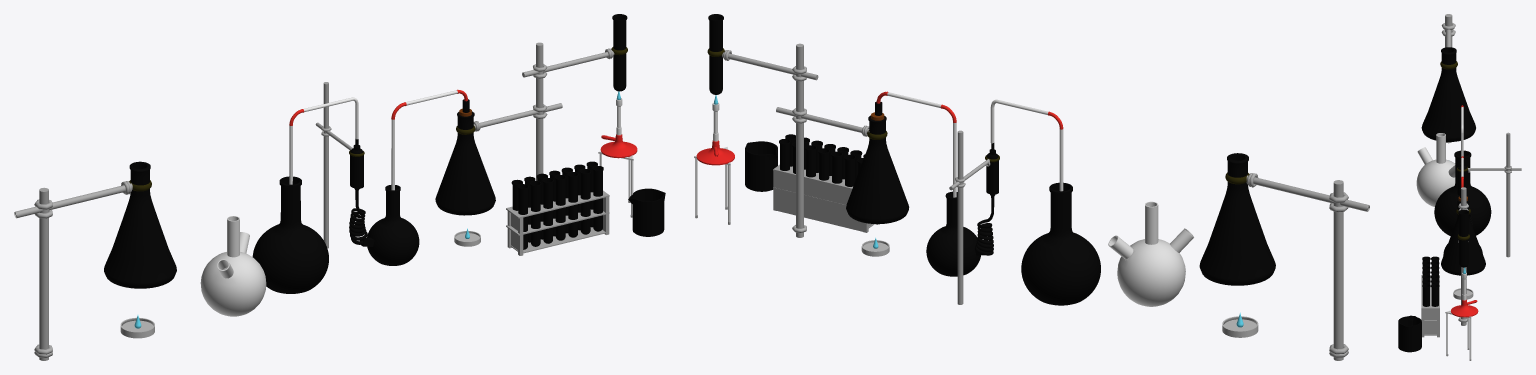
The model's file is chemistry set 1.fbx.
3 views of the same model, side by side, from view 1: azimuth 30°, elevation 25°; view 2: azimuth 150°, elevation 25°; view 3: azimuth 270°, elevation 25° (orthographic). The views are drawn at different scales.
Parts seen in each view (by area): view 1: Cylinder.004, Cylinder.002, Cylinder.005, Cylinder.003, Cylinder.010; view 2: Cylinder.004, Cylinder.002, Cylinder.005, Cylinder.003, Cylinder.010; view 3: Cylinder.004, Cylinder.002, Cylinder.003, Cylinder.005, Cylinder.010.
Boxes of the visible parts, left/top/right/bottom form: Cylinder.004: left=252, top=14, right=637, bottom=293; Cylinder.002: left=14, top=161, right=176, bottom=360; Cylinder.005: left=506, top=161, right=609, bottom=255; Cylinder.003: left=200, top=216, right=266, bottom=316; Cylinder.010: left=628, top=188, right=665, bottom=236; Cylinder.004: left=694, top=14, right=1100, bottom=305; Cylinder.002: left=1199, top=153, right=1369, bottom=360; Cylinder.005: left=773, top=134, right=878, bottom=232; Cylinder.003: left=1108, top=201, right=1194, bottom=306; Cylinder.010: left=745, top=141, right=777, bottom=191; Cylinder.004: left=1434, top=105, right=1521, bottom=360; Cylinder.002: left=1421, top=14, right=1475, bottom=143; Cylinder.003: left=1416, top=133, right=1455, bottom=206; Cylinder.005: left=1421, top=256, right=1439, bottom=337; Cylinder.010: left=1398, top=315, right=1421, bottom=352.
Size of the model in its own units: 165 by 48.18 by 37.59.
